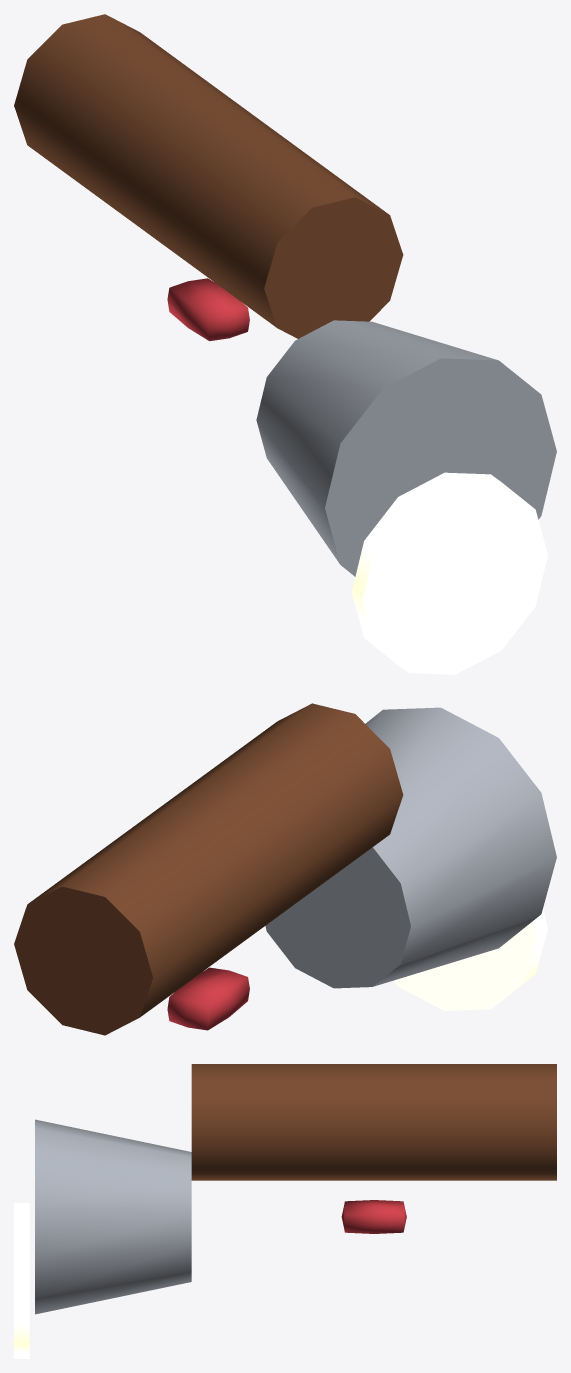
The model's file is torch.glb.
3 views of the same model, one above another, from view 1: azimuth 30°, elevation 25°; view 2: azimuth 150°, elevation 25°; view 3: azimuth 270°, elevation 25° (orthographic). The views are drawn at different scales.
Parts seen in each view (by area): view 1: root; view 2: root; view 3: root.
Boxes of the visible parts, x1=… form: root: x1=14, y1=14, x2=556, y2=674; root: x1=14, y1=703, x2=556, y2=1035; root: x1=14, y1=1064, x2=556, y2=1358.
Bounding box in the file's own units: 0.15 × 0.2368 × 0.416.
